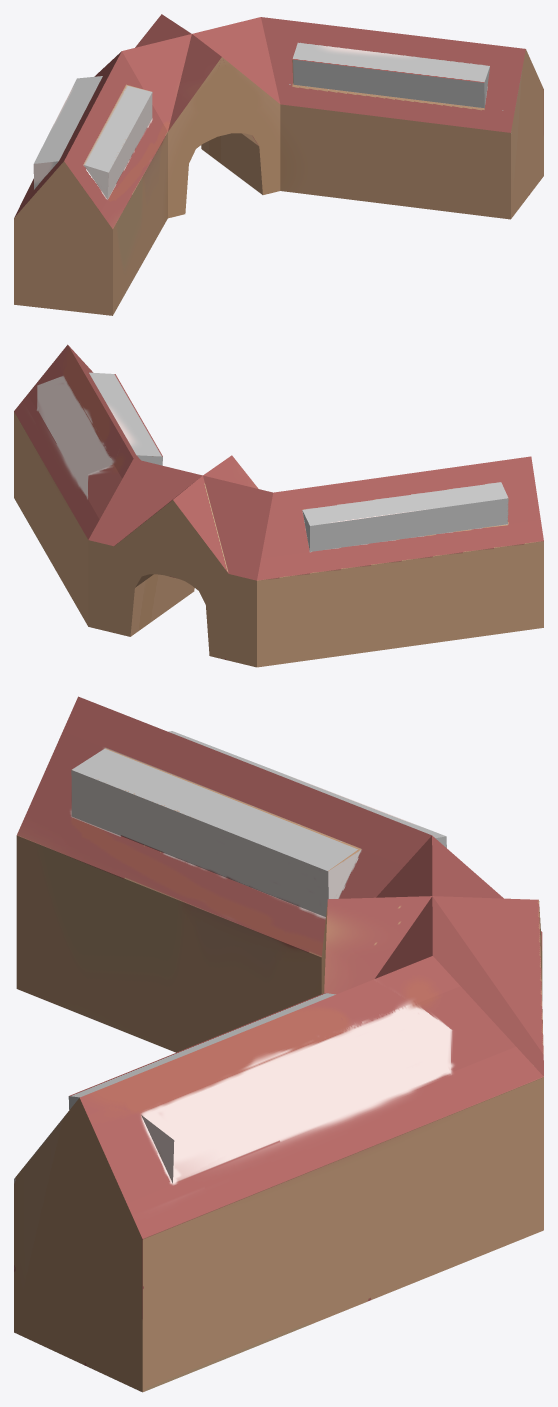
File: bloemwijk1.fbx
3 views of the same model, one above another, from view 1: azimuth 30°, elevation 25°; view 2: azimuth 150°, elevation 25°; view 3: azimuth 270°, elevation 25° (orthographic). The views are drawn at different scales.
Visible parts, largest first — view 1: Cube; view 2: Cube; view 3: Cube.
Boxes of the visible parts, <box> form: Cube: <box>14,14,543,315</box>; Cube: <box>14,344,543,667</box>; Cube: <box>14,696,543,1392</box>.
Bounding box in the file's own units: 884 × 239 × 432.
Materials: 1 (1 with a texture image).
